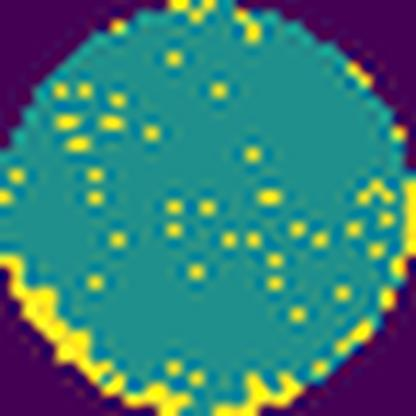Edge-Loc: (0, 251, 192, 416), (211, 364, 305, 416), (378, 170, 415, 280)
